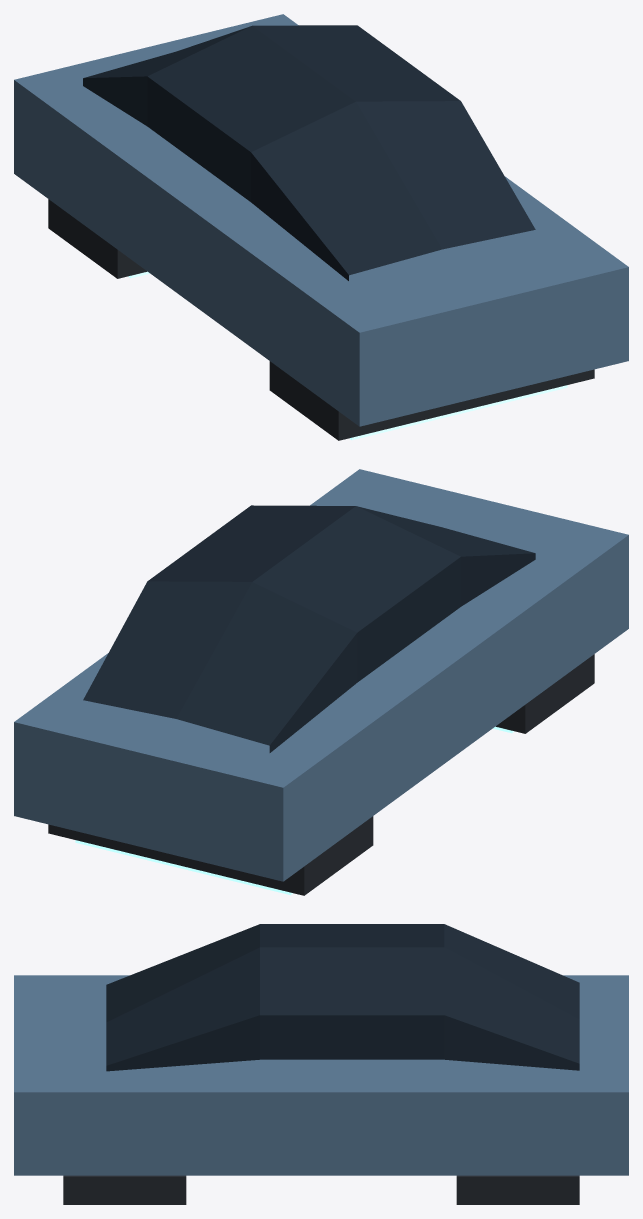
The model's file is veh_ground_car_a10.glb.
The picture shows the model from 3 angles, top to bottom: view 1: azimuth 30°, elevation 25°; view 2: azimuth 150°, elevation 25°; view 3: azimuth 270°, elevation 25°; orthographic projection. The views are drawn at different scales.
Visible parts, largest first — view 1: body; view 2: body; view 3: body.
Part boxes in pixels (left/top/right/bottom): body: left=14, top=14, right=628, bottom=440; body: left=14, top=469, right=628, bottom=895; body: left=14, top=924, right=628, bottom=1204.
Size of what is drawn, in the model's own units: 1.8 by 1.51 by 4.
